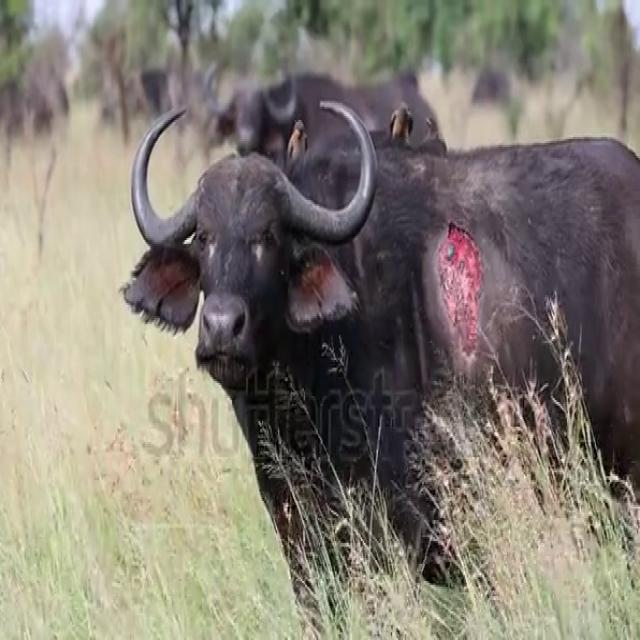injured-animals: (119, 90, 637, 594)
